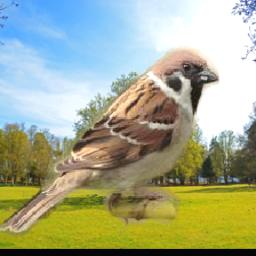Sparrow: (0, 46, 219, 237)
